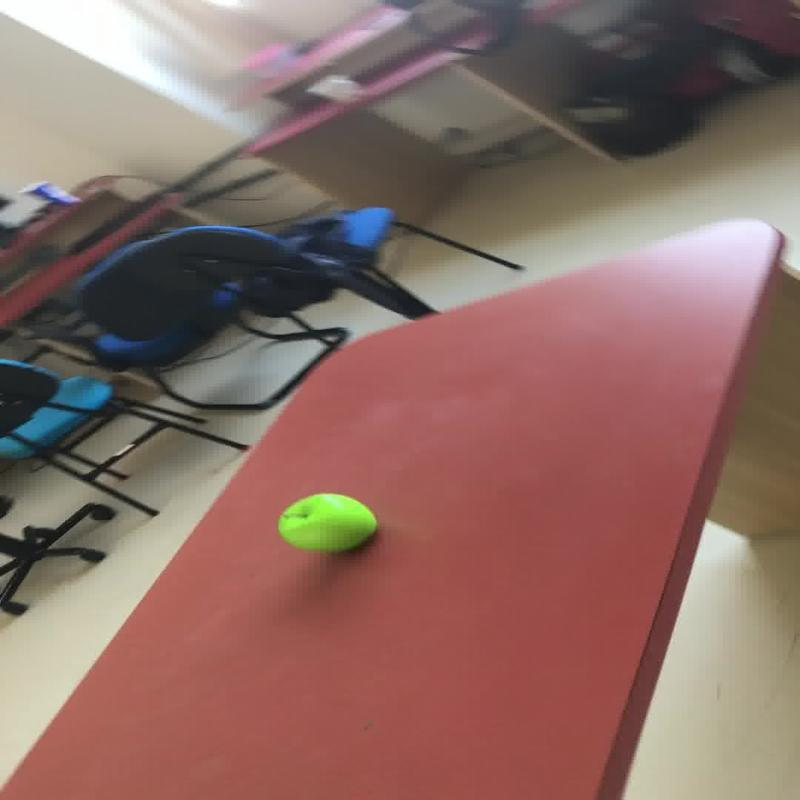apple: (276, 492, 376, 553)
